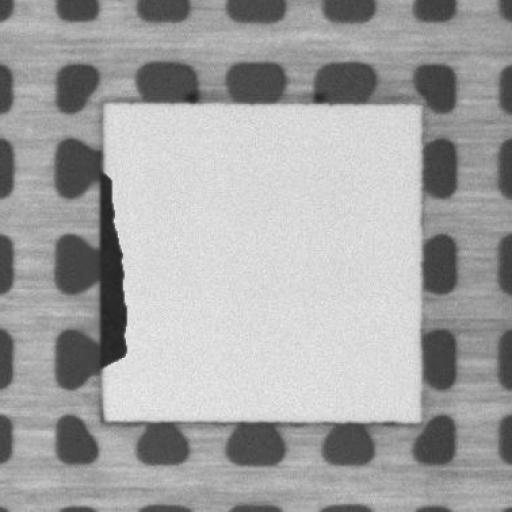DIE_BROKEN: (94, 165, 128, 370)
